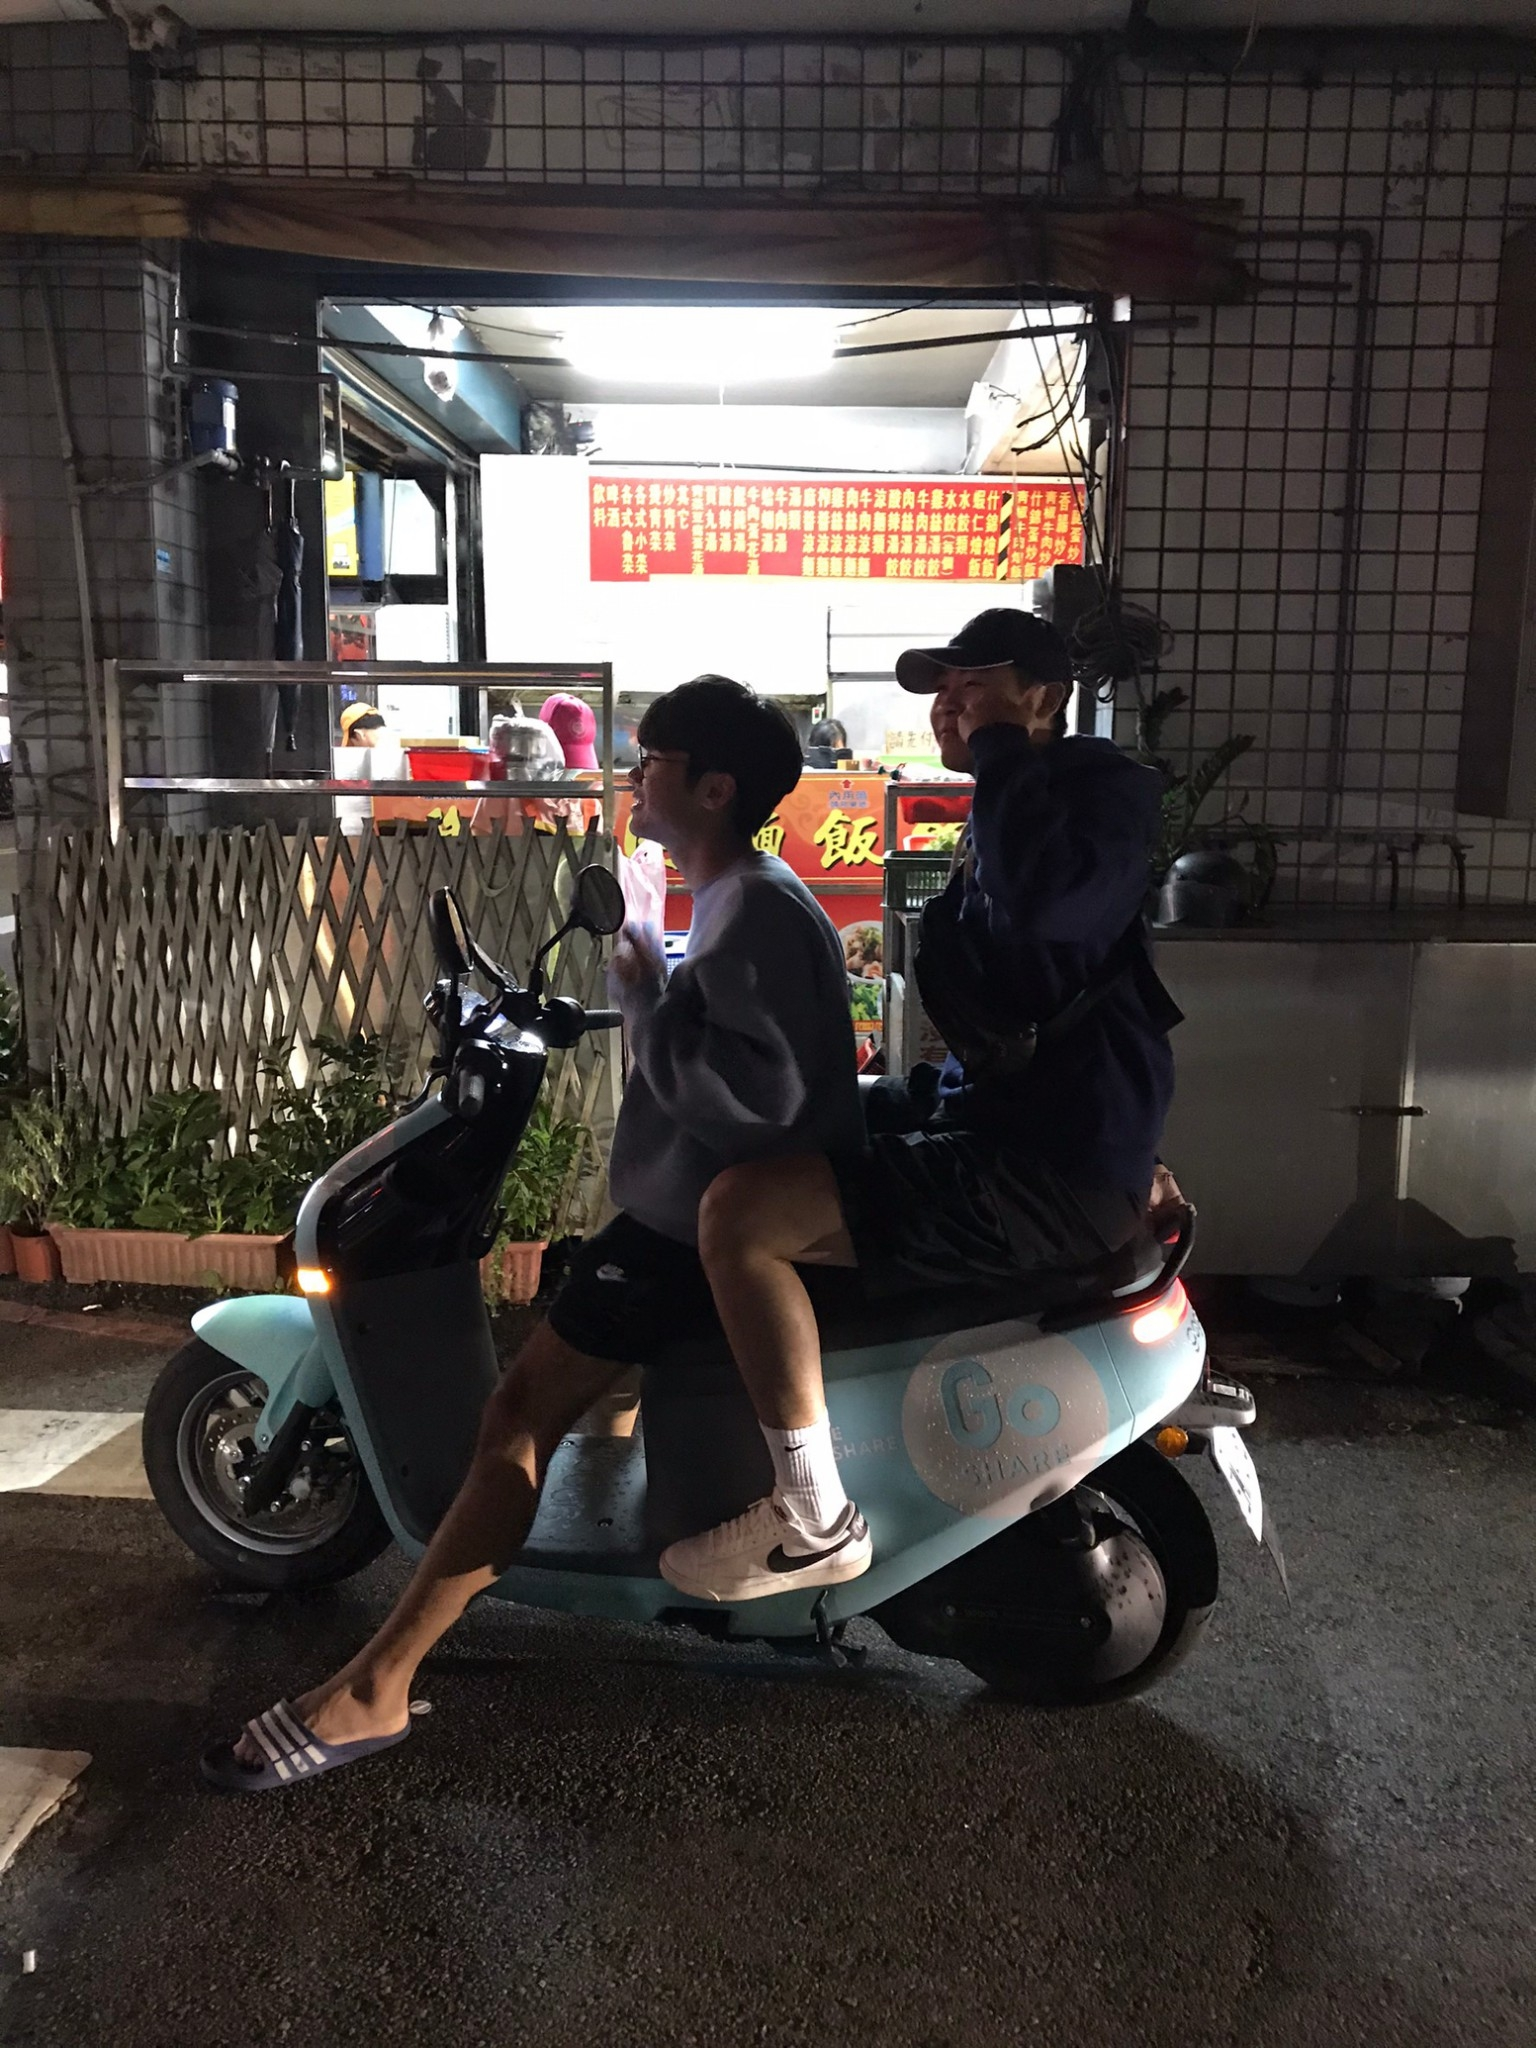people: (505, 689, 847, 1641), (853, 631, 1144, 1289)
